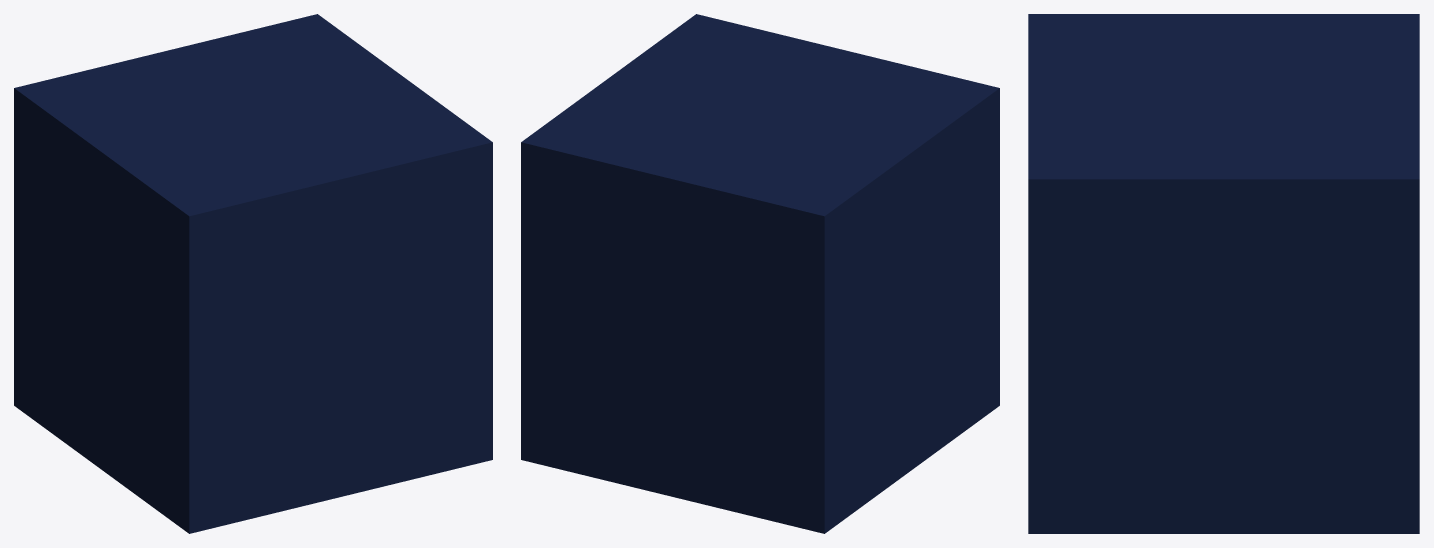
File: MDL_NormalFloorMiddle_Tile.fbx
3 views of the same model, side by side, from view 1: azimuth 30°, elevation 25°; view 2: azimuth 150°, elevation 25°; view 3: azimuth 270°, elevation 25° (orthographic). The views are drawn at different scales.
Parts seen in each view (by area): view 1: LowPoly.009; view 2: LowPoly.009; view 3: LowPoly.009.
Part boxes in pixels (x1,y1,x2,y2): LowPoly.009: [14, 14, 492, 533]; LowPoly.009: [521, 14, 999, 533]; LowPoly.009: [1028, 14, 1419, 533].
Bounding box in the file's own units: 100 × 100 × 100.
